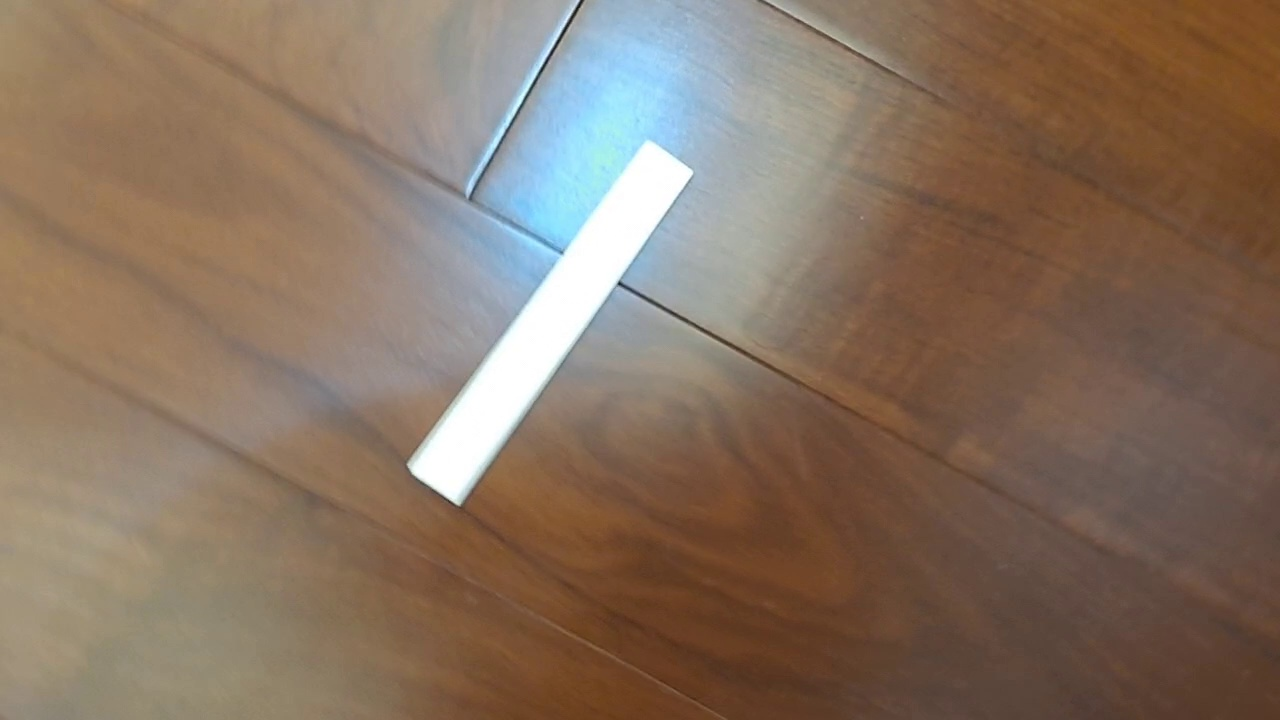ruler: (405, 137, 695, 509)
